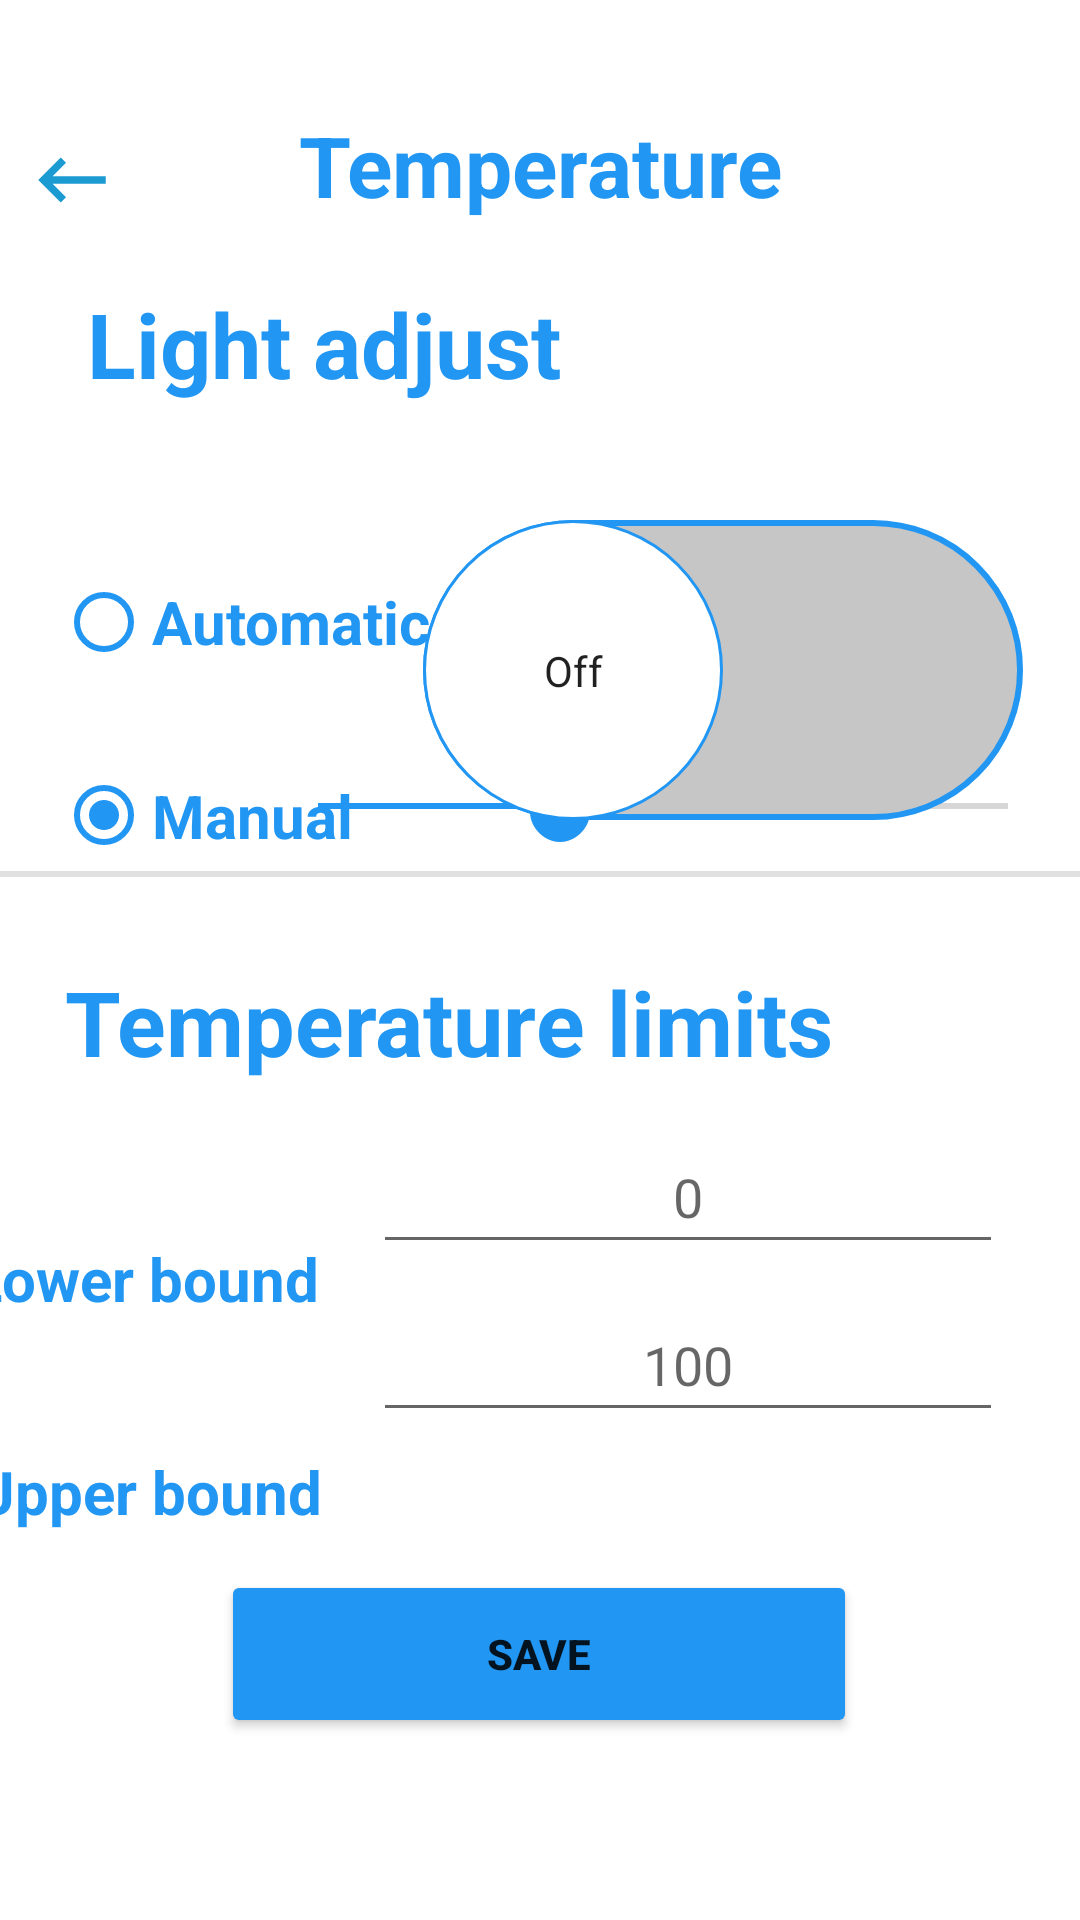

Screen size 1080x1920. Icon name, then its box in pixels as (x1, y1, x2, y2):
keyboard backspace: (38, 157, 106, 203)
